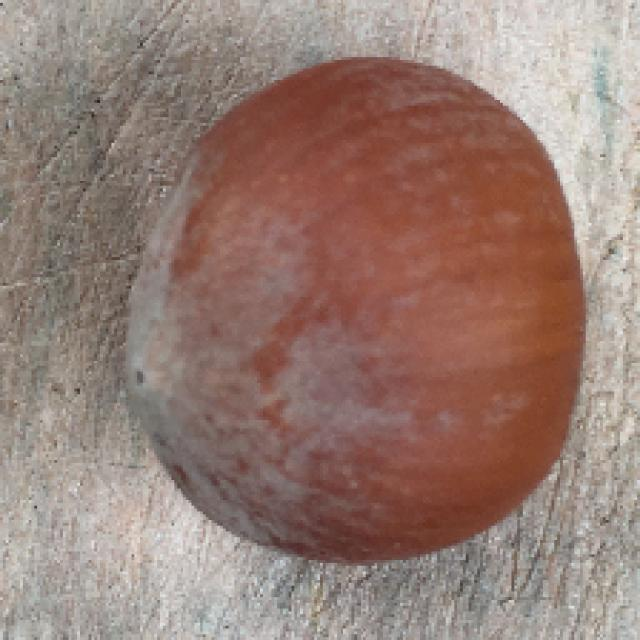qualityHazelnut: (110, 44, 591, 572)
